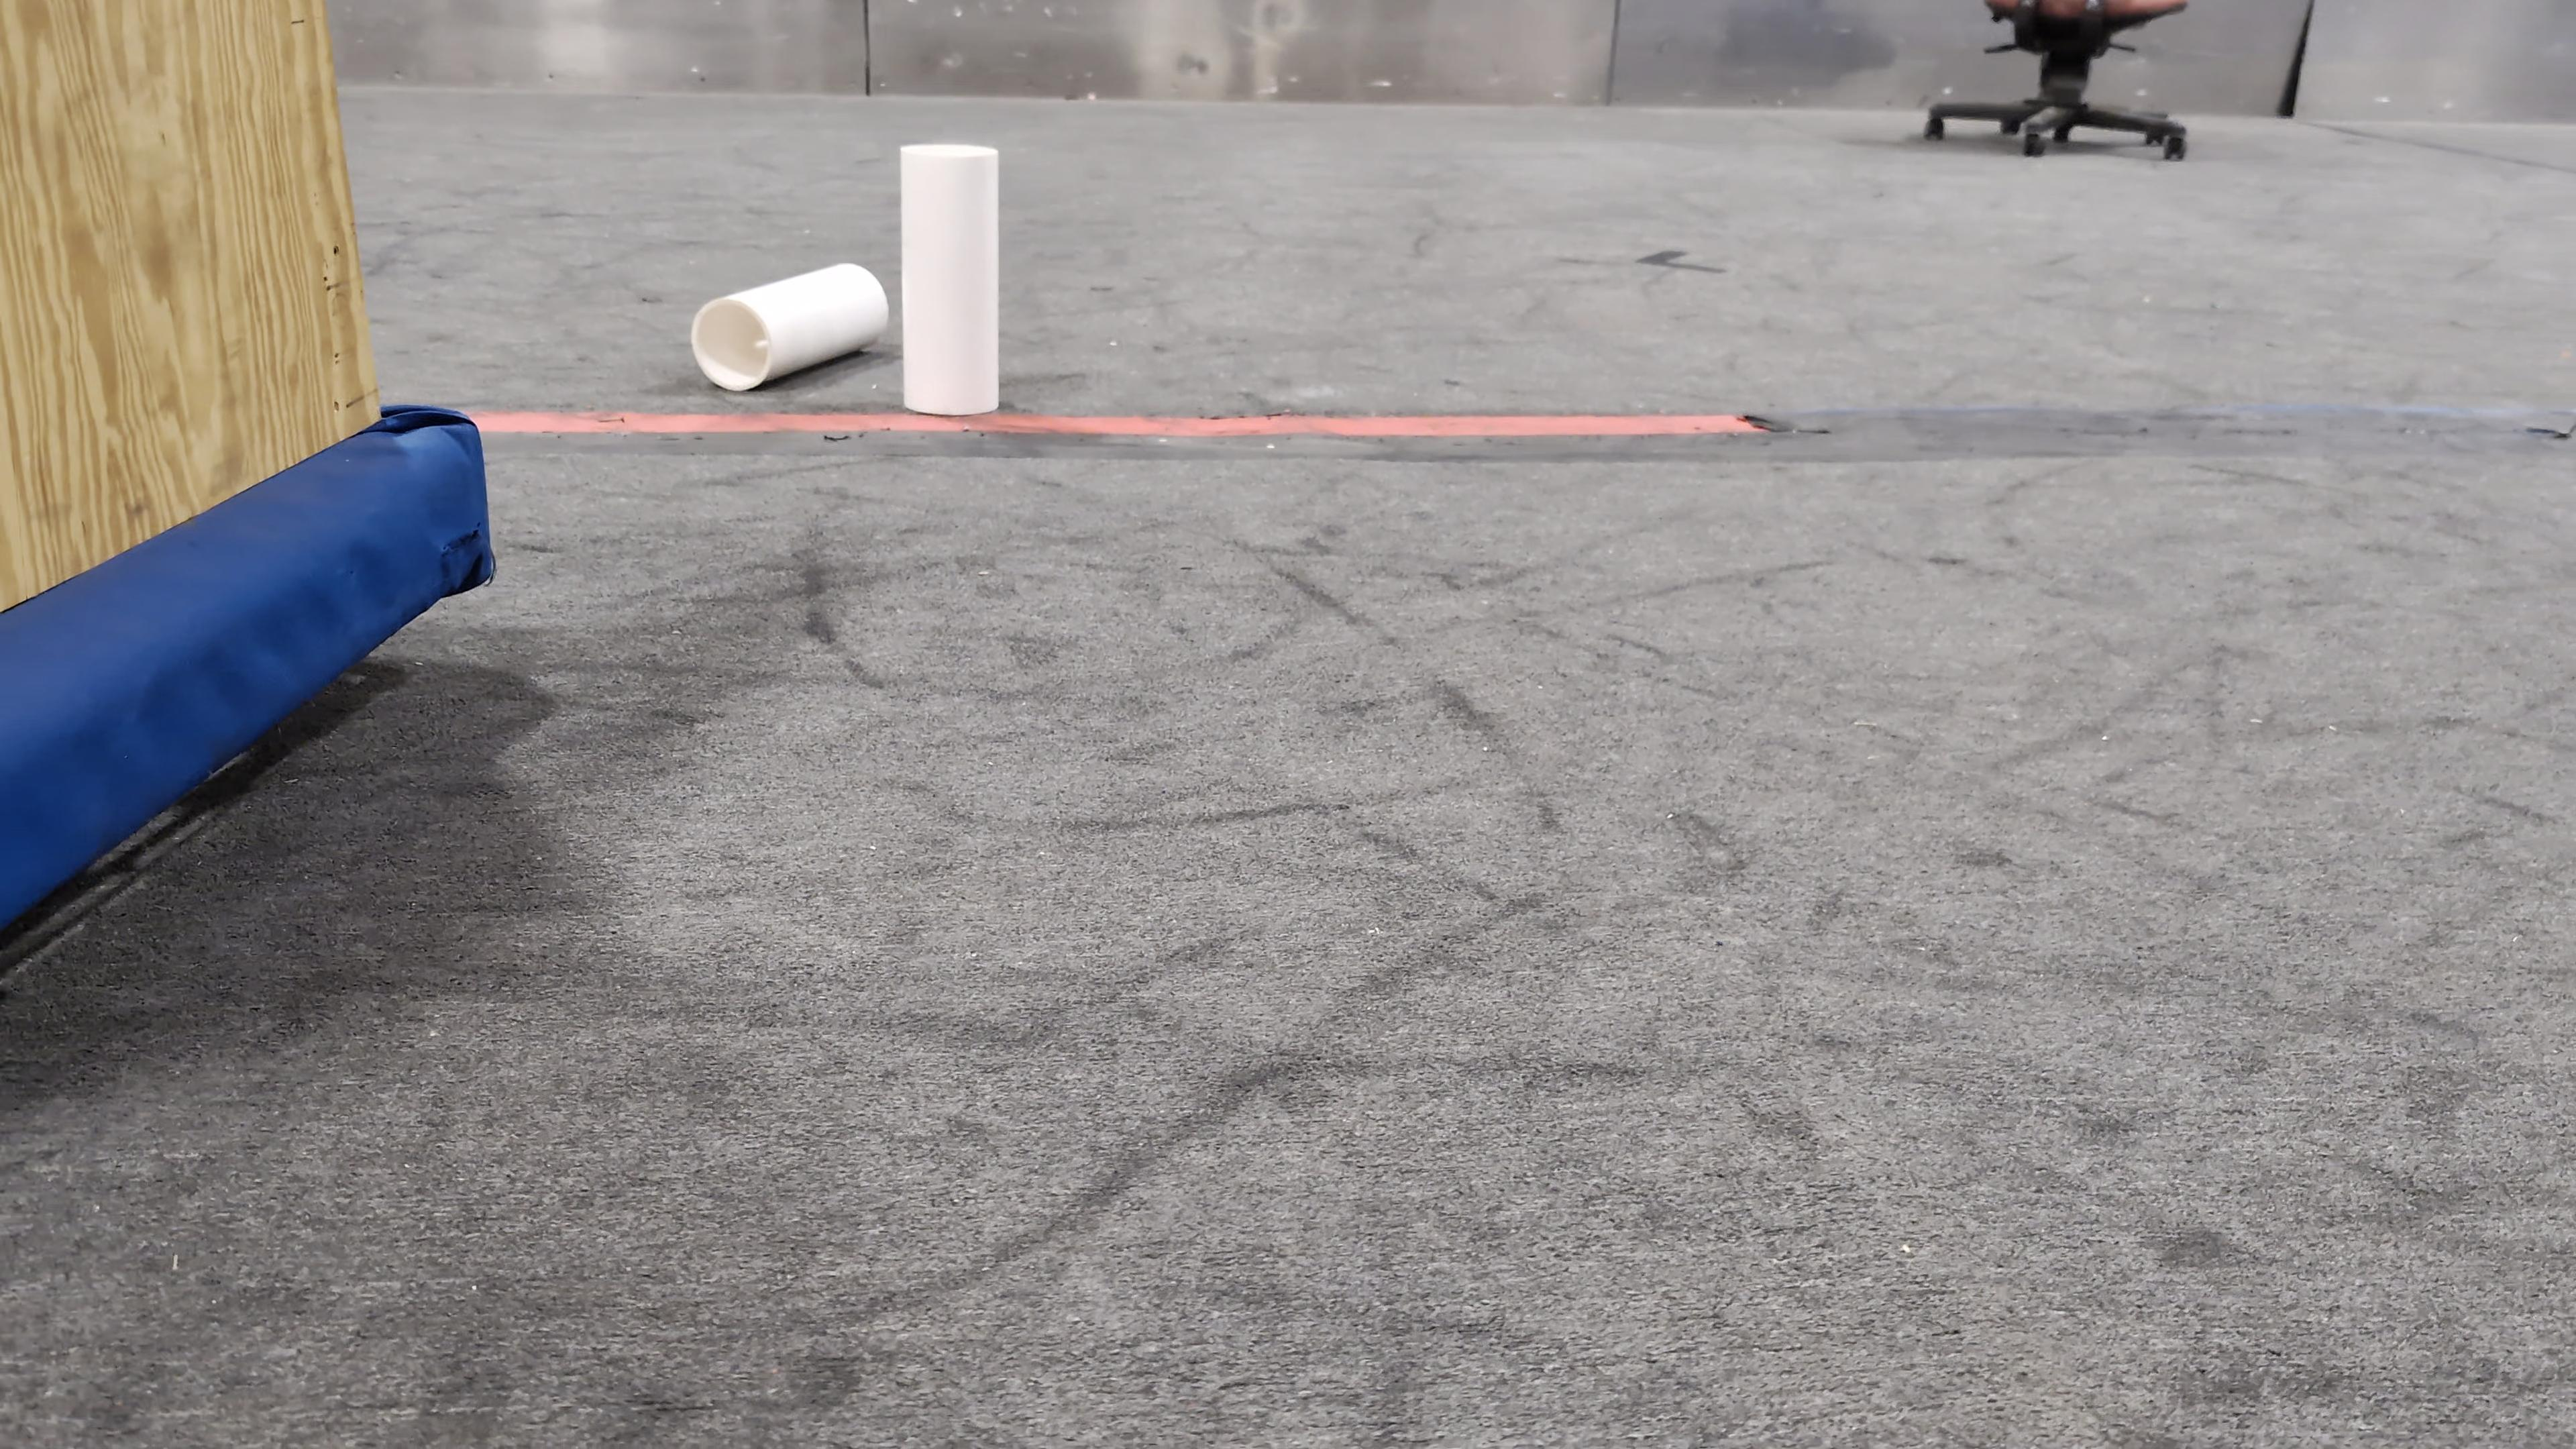coral: (892, 140, 1008, 409), (690, 258, 893, 393)
